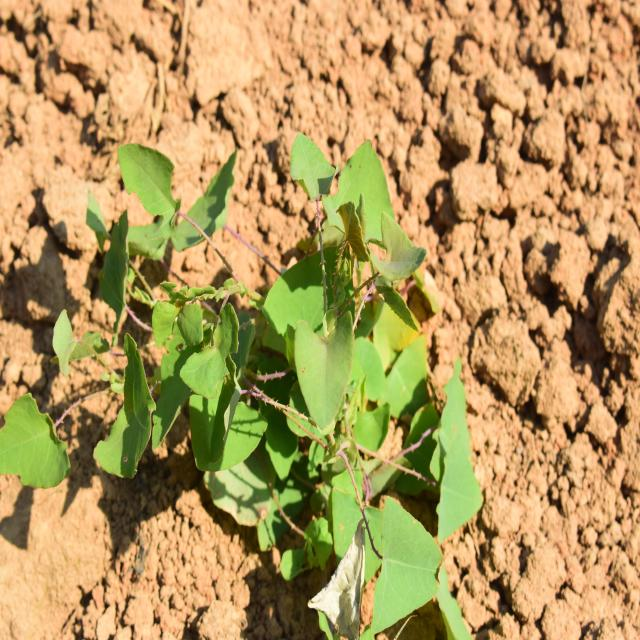Asiatic_Smartweed: (264, 142, 413, 448), (94, 290, 268, 482), (94, 135, 266, 284), (341, 482, 459, 620), (418, 357, 488, 529)
